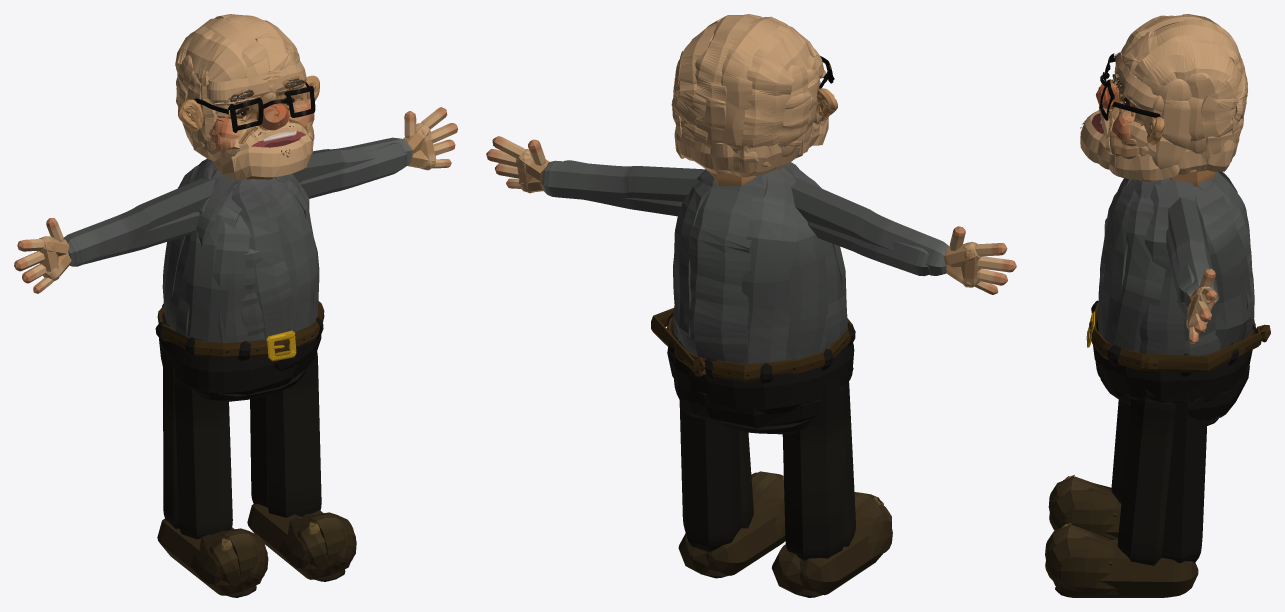
Rendered from grandpa07.fbx.
3 renders of one model, left to right at view 1: azimuth 30°, elevation 25°; view 2: azimuth 150°, elevation 25°; view 3: azimuth 270°, elevation 25°, orthographic. The views are drawn at different scales.
Visible parts, largest first — view 1: Legs, Body, Skin, rArms, Shoe, Glasses, lines; view 2: Legs, Body, Skin, rArms, Shoe; view 3: Legs, Skin, Body, Shoe, rArms, Glasses, Neck, lines.
Boxes of the visible parts, x1,y1,x2,y2 form: Legs: (155, 301, 324, 539); Body: (162, 158, 319, 342); Skin: (175, 14, 319, 180); rArms: (14, 107, 457, 293); Shoe: (157, 504, 356, 597); Glasses: (195, 82, 315, 132); lines: (225, 78, 309, 157); Legs: (651, 308, 855, 560); Body: (673, 162, 847, 364); Skin: (671, 14, 837, 177); rArms: (486, 136, 1016, 294); Shoe: (678, 471, 892, 597); Legs: (1086, 300, 1270, 565); Skin: (1080, 14, 1247, 180); Body: (1098, 171, 1254, 355); Shoe: (1045, 474, 1198, 597); rArms: (1166, 197, 1219, 343); Glasses: (1100, 53, 1160, 120); Neck: (1139, 170, 1215, 186); lines: (1080, 52, 1133, 138).
Bounding box in the file's own units: 1.74 × 1.88 × 0.6953.
